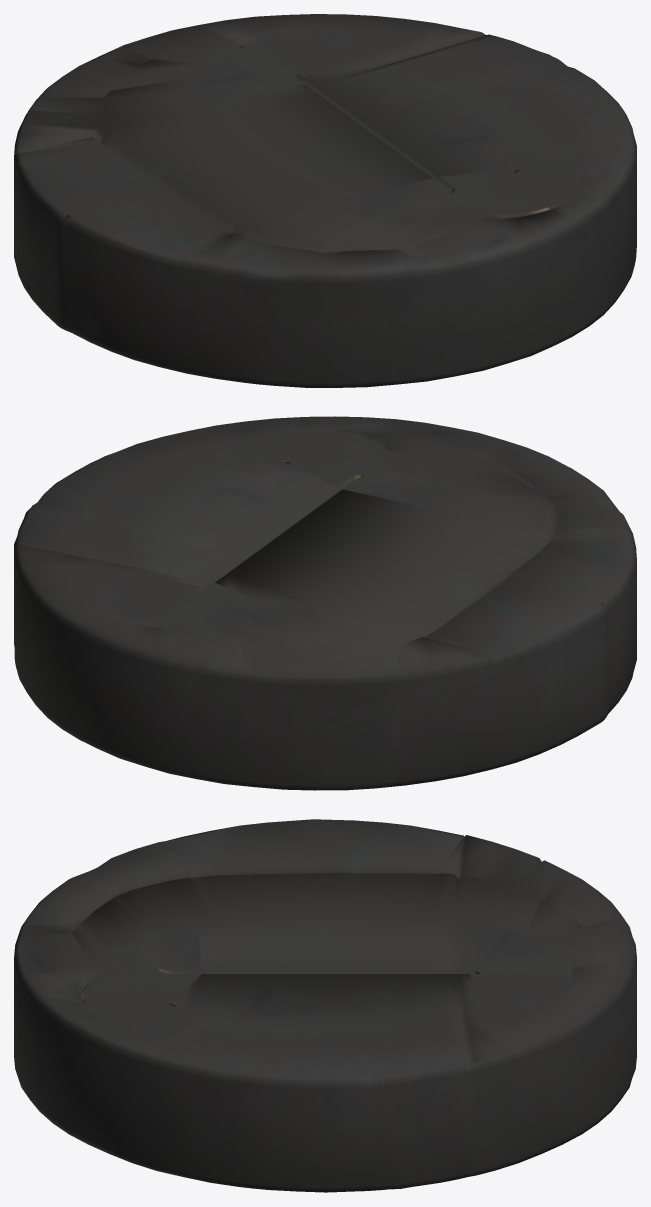
File: SM_KingArthur_Base_Candidate.fbx
3 renders of one model, top to bottom at view 1: azimuth 30°, elevation 25°; view 2: azimuth 150°, elevation 25°; view 3: azimuth 270°, elevation 25°, orthographic.
Visible parts, largest first — view 1: SM_KingArthur_Base; view 2: SM_KingArthur_Base; view 3: SM_KingArthur_Base.
Boxes of the visible parts, x1,y1,x2,y2 form: SM_KingArthur_Base: (14,14,636,387); SM_KingArthur_Base: (14,416,636,790); SM_KingArthur_Base: (14,819,636,1192).
Size of the model in its own units: 30 by 30 by 6.
